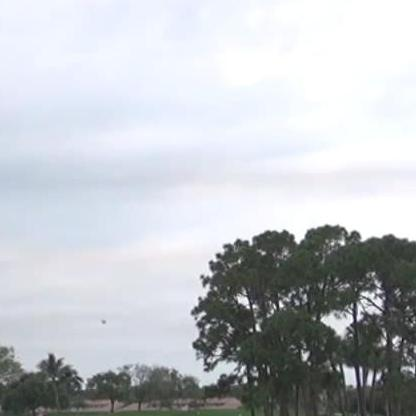golfball: (99, 316, 108, 325)
